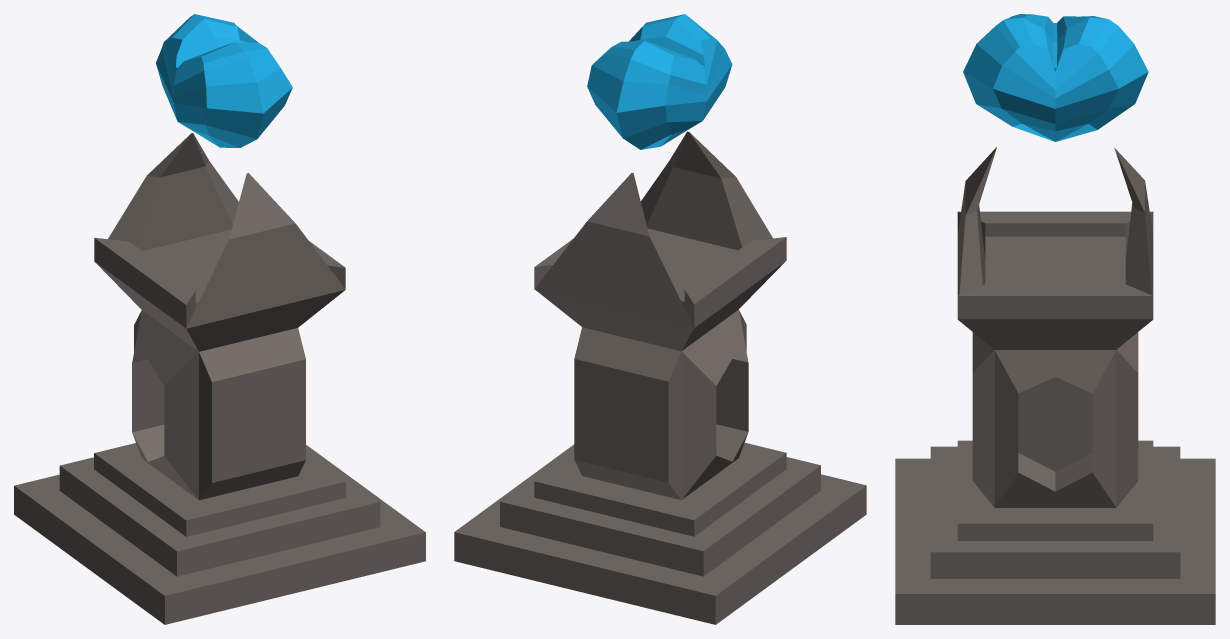
Rendered from AltarDeCuracion.fbx.
The picture shows the model from 3 angles, left to right: view 1: azimuth 30°, elevation 25°; view 2: azimuth 150°, elevation 25°; view 3: azimuth 270°, elevation 25°; orthographic projection. The views are drawn at different scales.
Parts seen in each view (by area): view 1: Altar Base, Heart; view 2: Altar Base, Heart; view 3: Altar Base, Heart.
Boxes of the visible parts, x1,y1,x2,y2 form: Altar Base: (14, 133, 425, 624); Heart: (156, 14, 292, 147); Altar Base: (454, 131, 866, 624); Heart: (587, 14, 732, 149); Altar Base: (895, 147, 1215, 624); Heart: (963, 14, 1148, 141).
Size of the model in its own units: 6 by 11.15 by 6.
